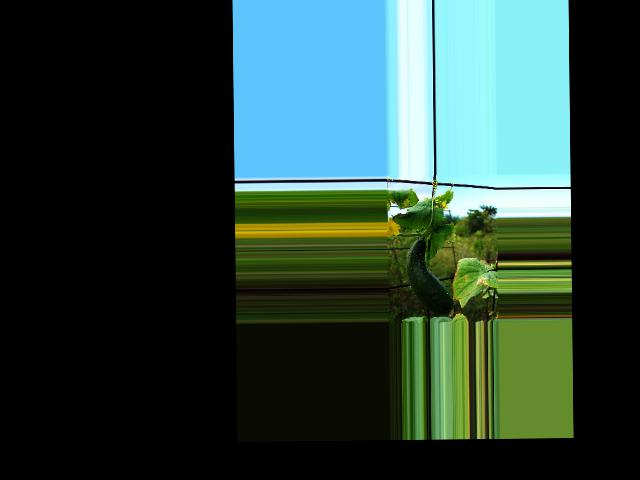cucumber: (406, 237, 453, 315)
